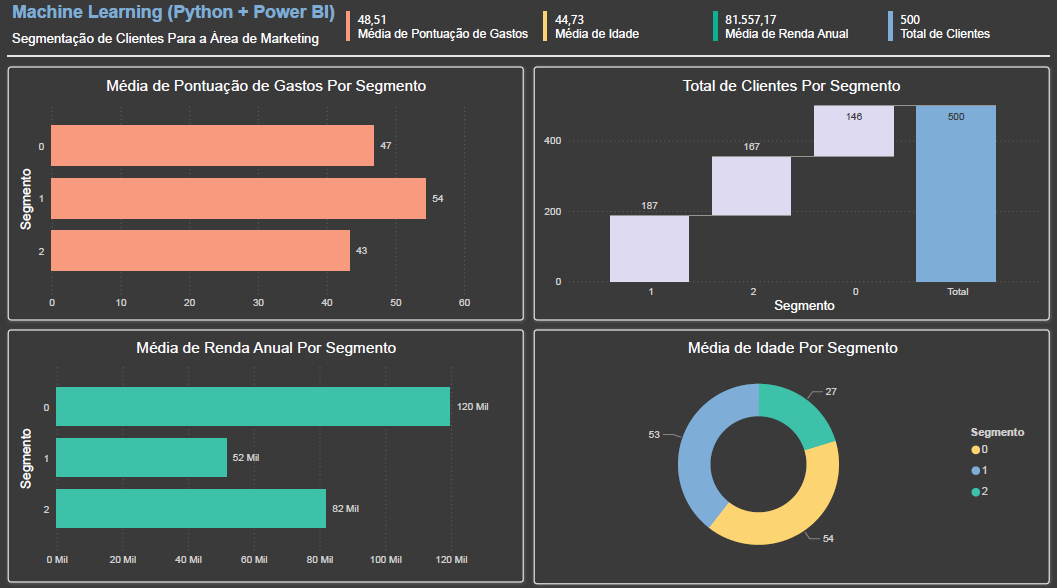

This screenshot's page, from the dashboard's own definition file:
{"tool":"powerbi","page":{"name":"Laboratório 7","canvas":[1280,720],"ordinal":0},"visuals":[{"type":"shape","box":[12,58,1256,26],"z":0},{"type":"shape","box":[12.3,83.5,621.5,306.7],"z":1000},{"type":"shape","box":[646,84,622,306],"z":2000},{"type":"shape","box":[12.3,401.1,621.5,305.3],"z":3000},{"type":"shape","box":[646.2,401.1,621.5,306.7],"z":4000},{"type":"clusteredBarChart","title":"Média de Renda Anual Por Segmento","fields":{"Category":["Table.cluster"],"Y":["Avg(Table.renda_anual)"]},"box":[20.5,412.1,605.1,282],"z":5000},{"type":"donutChart","title":"Média de Idade Por Segmento","fields":{"Category":["Table.cluster"],"Y":["Clientes.Média de Idade"]},"box":[655.7,412.1,605.1,282],"z":6000},{"type":"clusteredBarChart","title":"Média de Pontuação de Gastos Por Segmento","fields":{"Category":["Table.cluster"],"Y":["Avg(Table.pontuacao_gastos)"]},"box":[20.5,95.8,605.1,288.9],"z":7000},{"type":"multiRowCard","fields":{"Values":["CountNonNull(Table.id)"]},"box":[1069,12,199,50],"z":8000},{"type":"multiRowCard","fields":{"Values":["Avg(Table.renda_anual)"]},"box":[858,12,199,50],"z":9000},{"type":"multiRowCard","fields":{"Values":["Avg(Table.idade)"]},"box":[653,12.3,198.5,49.3],"z":10000},{"type":"multiRowCard","fields":{"Values":["Avg(Table.pontuacao_gastos)"]},"box":[414.8,12.3,231.4,49.3],"z":11000},{"type":"textbox","box":[12.3,37,402.5,28.7],"z":12000},{"type":"textbox","box":[11.8,1.5,402.6,35.3],"z":13000},{"type":"waterfallChart","title":"Total de Clientes Por Segmento","fields":{"Category":["Clientes.cluster"],"Y":["CountNonNull(Clientes.id)"]},"box":[653,95.8,607.8,288.9],"z":14000}]}

Visuals, with their boxes in screenshot pixels (x1, y1, x2, y2), scaled from the page's 1280x720 canvas onto the 1057x588 screenshot:
shape: 10/47/1047/69
shape: 10/68/523/319
shape: 533/69/1047/318
shape: 10/328/523/577
shape: 534/328/1047/578
"Média de Renda Anual Por Segmento" clusteredBarChart: 17/337/517/567
"Média de Idade Por Segmento" donutChart: 541/337/1041/567
"Média de Pontuação de Gastos Por Segmento" clusteredBarChart: 17/78/517/314
multiRowCard - CountNonNull(Table.id): 883/10/1047/51
multiRowCard - Avg(Table.renda_anual): 709/10/873/51
multiRowCard - Avg(Table.idade): 539/10/703/50
multiRowCard - Avg(Table.pontuacao_gastos): 343/10/534/50
textbox: 10/30/343/54
textbox: 10/1/342/30
"Total de Clientes Por Segmento" waterfallChart: 539/78/1041/314
